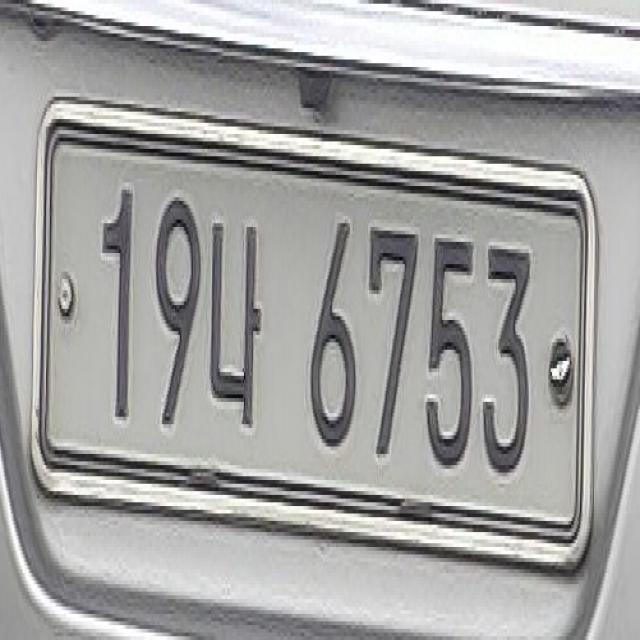1: (97, 171, 141, 439)
3: (478, 227, 535, 487)
5: (423, 220, 476, 480)
6: (306, 205, 360, 458)
7: (365, 208, 419, 469)
9: (149, 175, 202, 443)
license_plate: (27, 74, 600, 580)
na: (206, 201, 263, 439)
